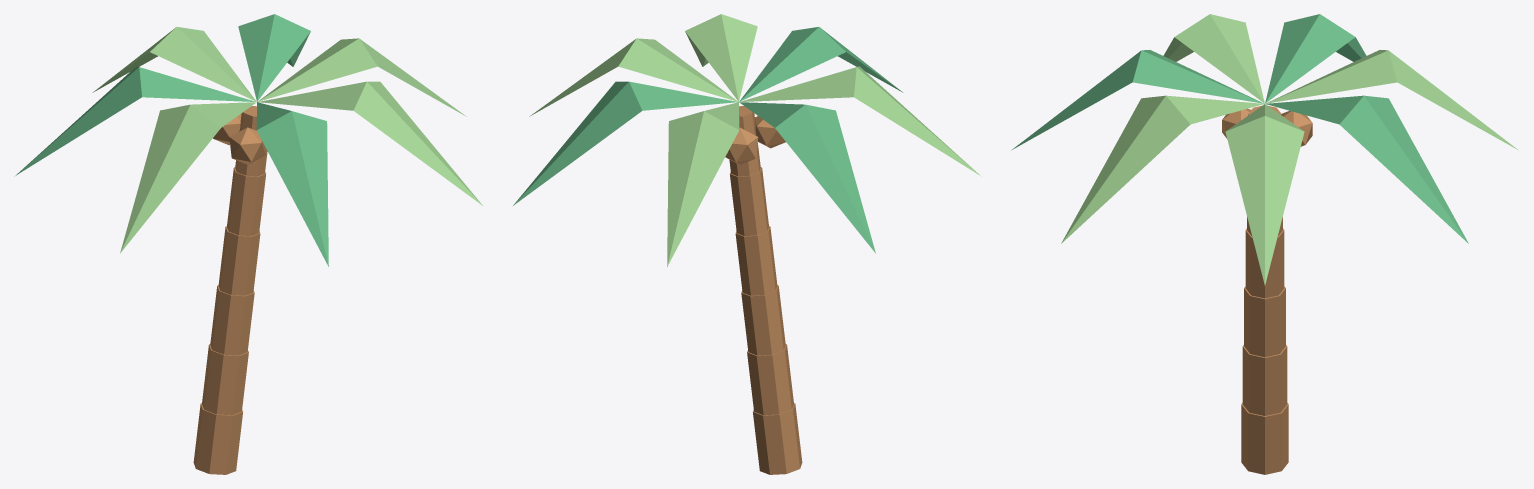
Rendered from palm_tree.glb.
3 renders of one model, left to right at view 1: azimuth 30°, elevation 25°; view 2: azimuth 150°, elevation 25°; view 3: azimuth 270°, elevation 25°, orthographic. The views are drawn at different scales.
Parts seen in each view (by area): view 1: palm_tree; view 2: palm_tree; view 3: palm_tree.
Boxes of the visible parts, x1,y1,x2,y2 form: palm_tree: (14,14,482,474); palm_tree: (513,14,981,474); palm_tree: (1011,14,1518,474).
Bounding box in the file's own units: 3.14 × 2.96 × 3.22.
